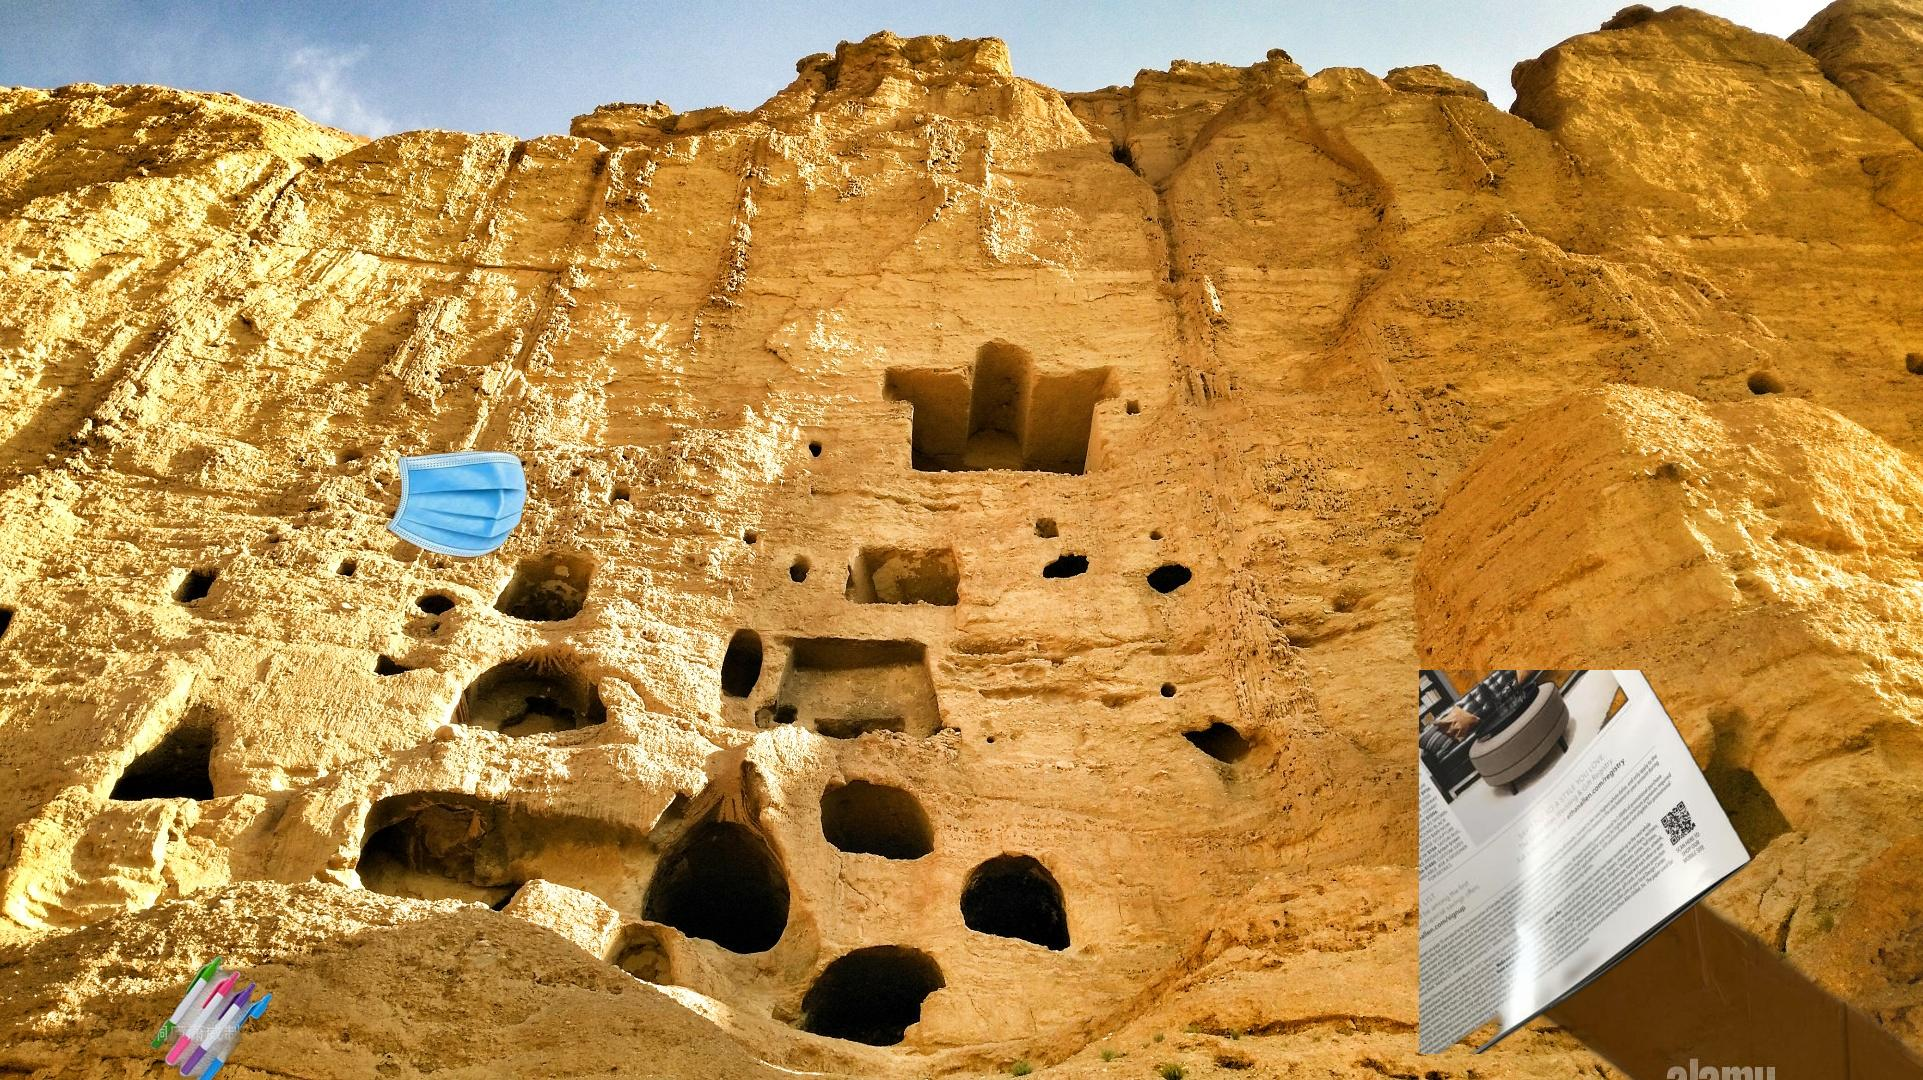paper: (1418, 669, 1757, 1054)
penholder: (139, 955, 283, 1080)
trash: (343, 448, 530, 560)
trashbox-cardboard: (1515, 788, 1923, 1080)
